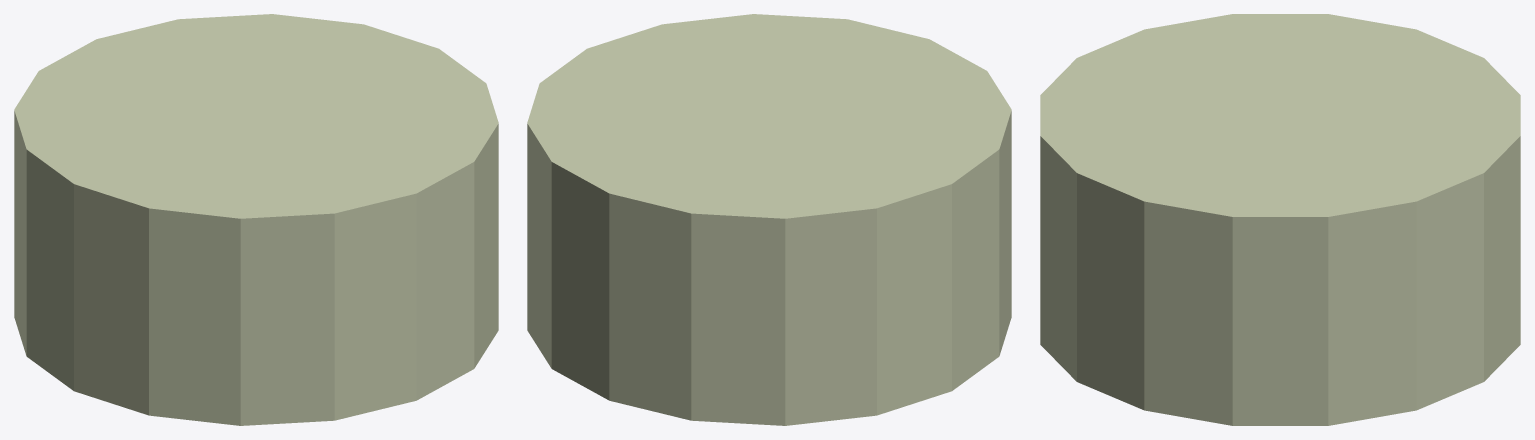
Rendered from AndromedaUS_LFO_1_Collider.obj.
3 views of the same model, side by side, from view 1: azimuth 30°, elevation 25°; view 2: azimuth 150°, elevation 25°; view 3: azimuth 270°, elevation 25° (orthographic).
Parts seen in each view (by area): view 1: AndromedaUS_LFO_1_Collider; view 2: AndromedaUS_LFO_1_Collider; view 3: AndromedaUS_LFO_1_Collider.
Part boxes in pixels (<box>): AndromedaUS_LFO_1_Collider: <box>14,14,498,425</box>; AndromedaUS_LFO_1_Collider: <box>527,14,1011,425</box>; AndromedaUS_LFO_1_Collider: <box>1040,14,1520,425</box>.
Size of the model in its own units: 1.25 by 0.6 by 1.25.
